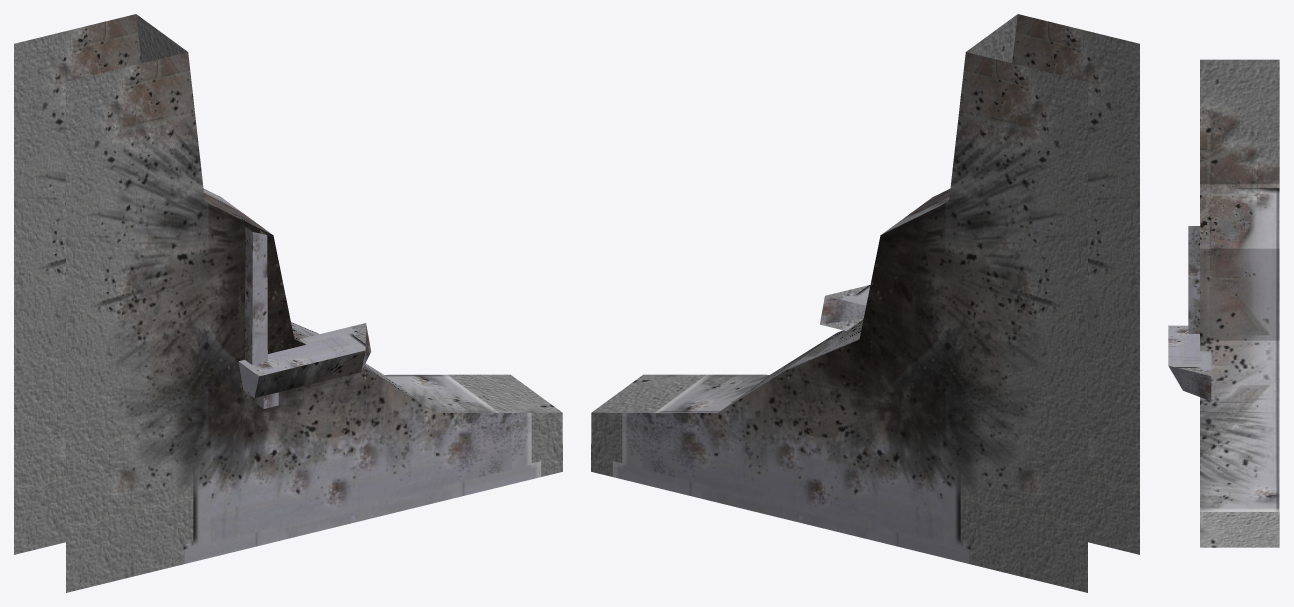
Rendered from bruch_gr.obj.
The picture shows the model from 3 angles, left to right: view 1: azimuth 30°, elevation 25°; view 2: azimuth 150°, elevation 25°; view 3: azimuth 270°, elevation 25°; orthographic projection. The views are drawn at different scales.
Visible parts, largest first — view 1: polySurface182; view 2: polySurface182; view 3: polySurface182.
Boxes of the visible parts, x1,y1,x2,y2 form: polySurface182: (14, 14, 562, 592); polySurface182: (591, 14, 1139, 592); polySurface182: (1168, 59, 1279, 547).
Size of the model in its own units: 1.02 by 1 by 0.2575.
Materials: 1 (1 with a texture image).
